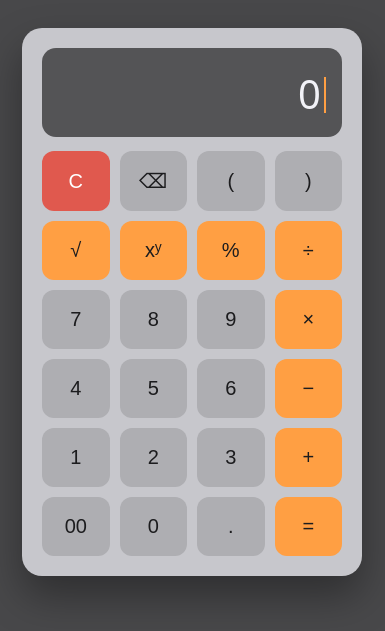
Test: Calculator › computes 2 + 3 through the backend and shows the result big once equals is pressed
The image size is (385, 631).
Click the button "2" at (153,458), box [120,428,187,487]
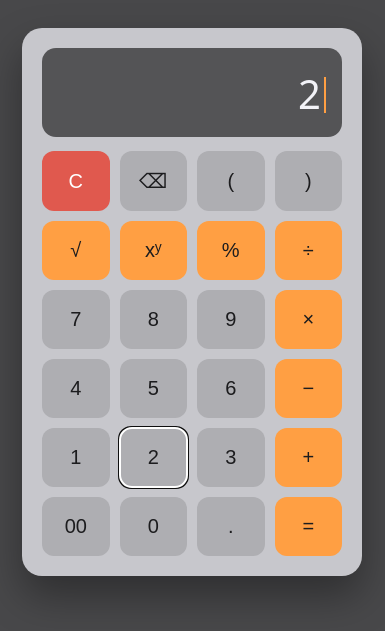
Click the button named "Add" at (308,458), box [274,428,342,487]
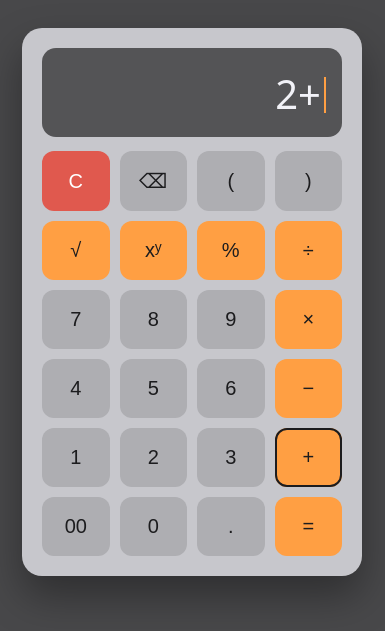
Click the button "3" at (231,458), box [197,428,264,487]
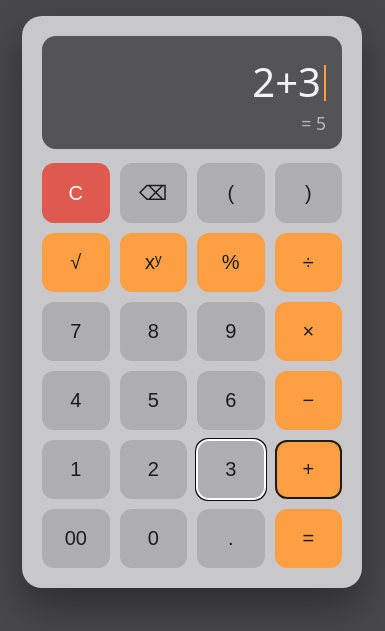
Click the button named "Equals" at (308,538), box [274,509,342,568]
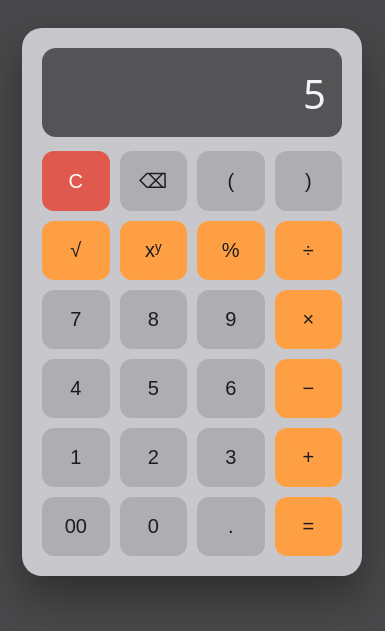
Now the message with test id "display-expression" reads "5", box [303,66,326,121]
